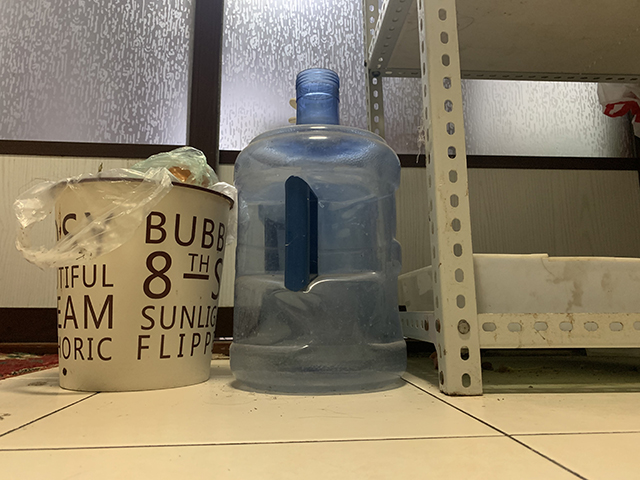carpet: (1, 352, 59, 381)
trashcan: (47, 176, 236, 394)
